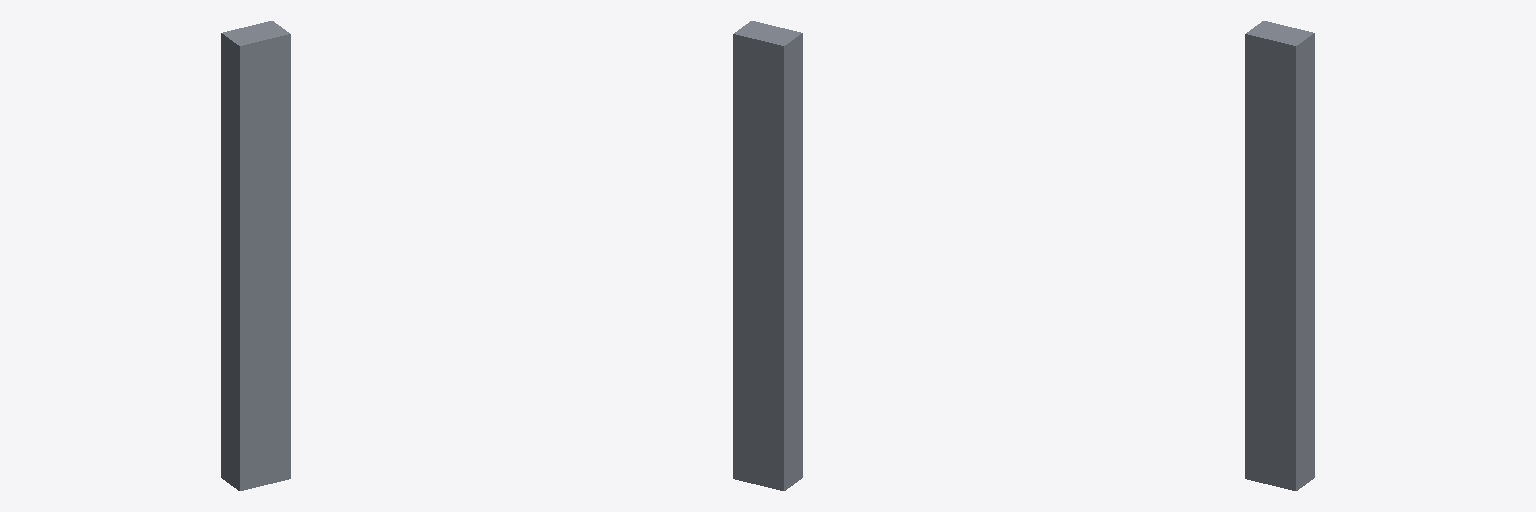
The robot description file, URDF, robot "artmanip_knife_000":
<?xml version='1.0' encoding='utf-8'?>
<robot name="artmanip_knife_000"><link name="link_0"><inertial><mass value="0.026640497533300857" /><inertia ixx="4.2980781215883363e-05" iyy="4.335817445782548e-05" izz="8.502668768204058e-07" ixy="0" ixz="0" iyz="0" /></inertial><visual><geometry><box size="0.016628134678366123 0.010319936137675227 0.1387582415578428" /></geometry><material name="link_0_color"><color rgba=".58 .60 .64 1" /></material></visual><collision><geometry><box size="0.016628134678366123 0.010319936137675227 0.1387582415578428" /></geometry></collision></link><link name="link_1"><inertial><mass value="0.006" /><inertia ixx="4.545e-07" iyy="5e-07" izz="5.45e-08" ixy="0" ixz="0" iyz="0" /></inertial><visual><geometry><mesh filename="slider-shoulder.obj" /></geometry><material name="link_1_color"><color rgba=".12 .13 .15 1" /></material></visual><collision><geometry><mesh filename="slider-shoulder.obj" /></geometry></collision></link><joint name="slider" type="prismatic"><parent link="link_0" /><child link="link_1" /><origin xyz="0.000380861904869119 0.006400655450508392 0.011578228406738413" /><axis xyz="0 0 1" /><limit lower="-0.03267458688196273" upper="0.017325413118037272" effort="100" velocity="1" /><dynamics damping="1000" friction="0.001" /></joint></robot>

--- Render facts (derived) ---
Views: 3 orthographic renders of the robot side by side, from view 1: azimuth 30°, elevation 25°; view 2: azimuth 150°, elevation 25°; view 3: azimuth 330°, elevation 25°.
Model artmanip_knife_000 with 2 links and 1 joints (1 prismatic), rooted at link_0, posed all joints at 0.
Visible links, largest first — view 1: link_0; view 2: link_0; view 3: link_0.
Link boxes in pixels (x1,y1,x2,y2): link_0: [221, 21, 290, 490]; link_0: [733, 21, 802, 490]; link_0: [1245, 21, 1314, 490].
Bounding box of the posed robot: 0.0166 × 0.0103 × 0.1388 m (x, y, z).
Meshes: 1 distinct files referenced, 0 mesh visuals loaded (none loaded); not drawn: 1 (reference not matched to a file when rendering).
